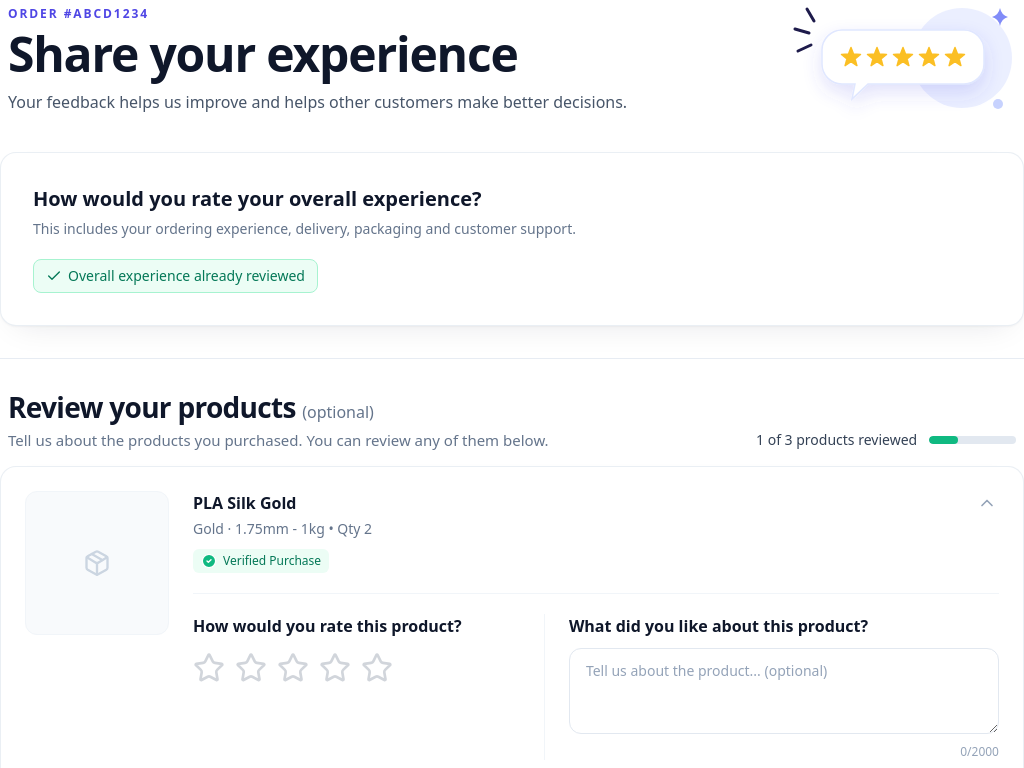
Scenario: ReviewForm › hides the overall rating once the order is reviewed and sends products only
Expected: the text "Overall experience already reviewed" is shown, [33,259,318,293]
Click the button named "3 stars".
click(293, 668)  # box [275,650,311,686]
(page scrolled)
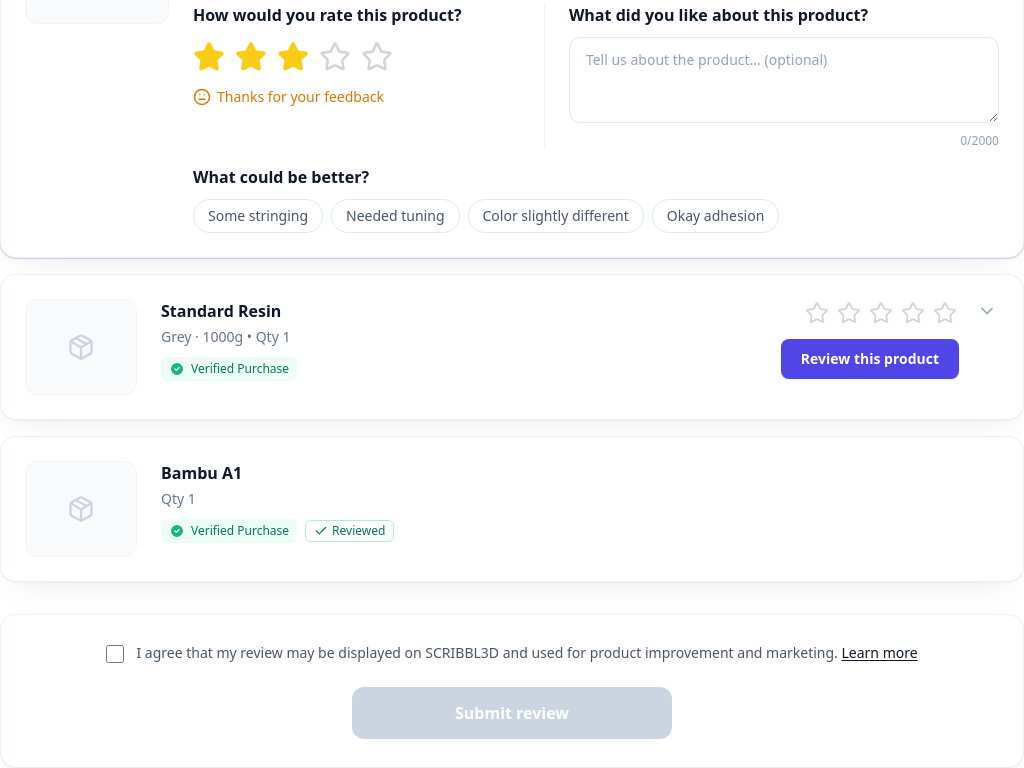
Click the checkbox.
click(115, 654)  # box [106,645,124,663]
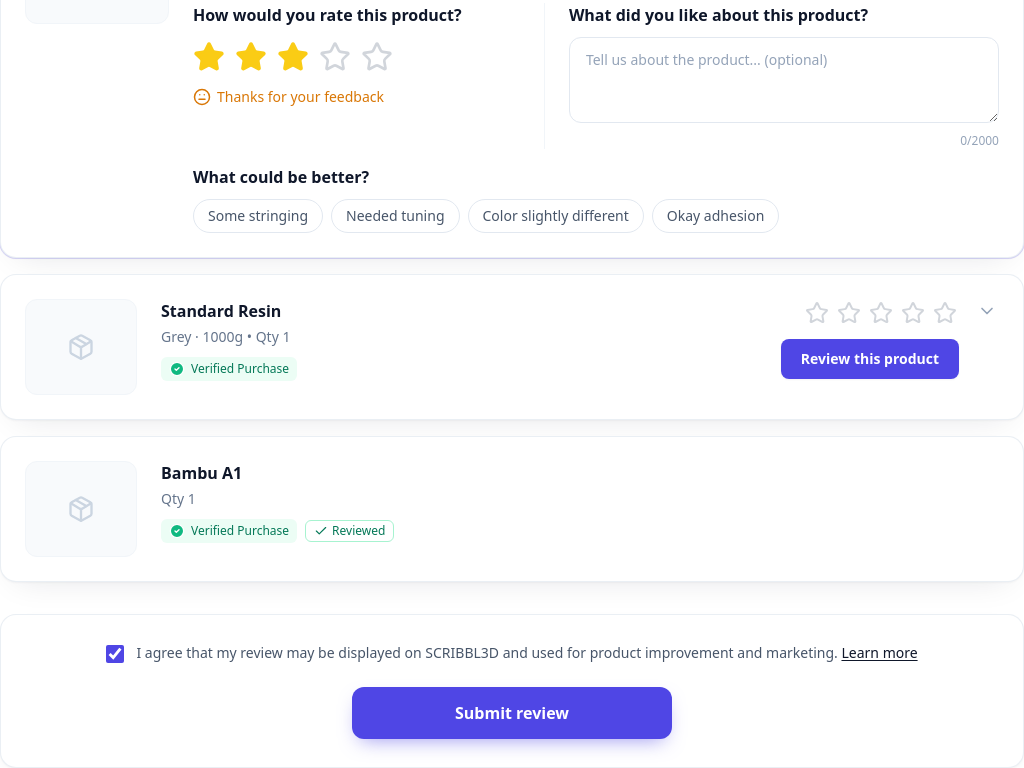
Click the button "Submit review".
click(512, 713)  # box [352,687,672,739]
(page scrolled)
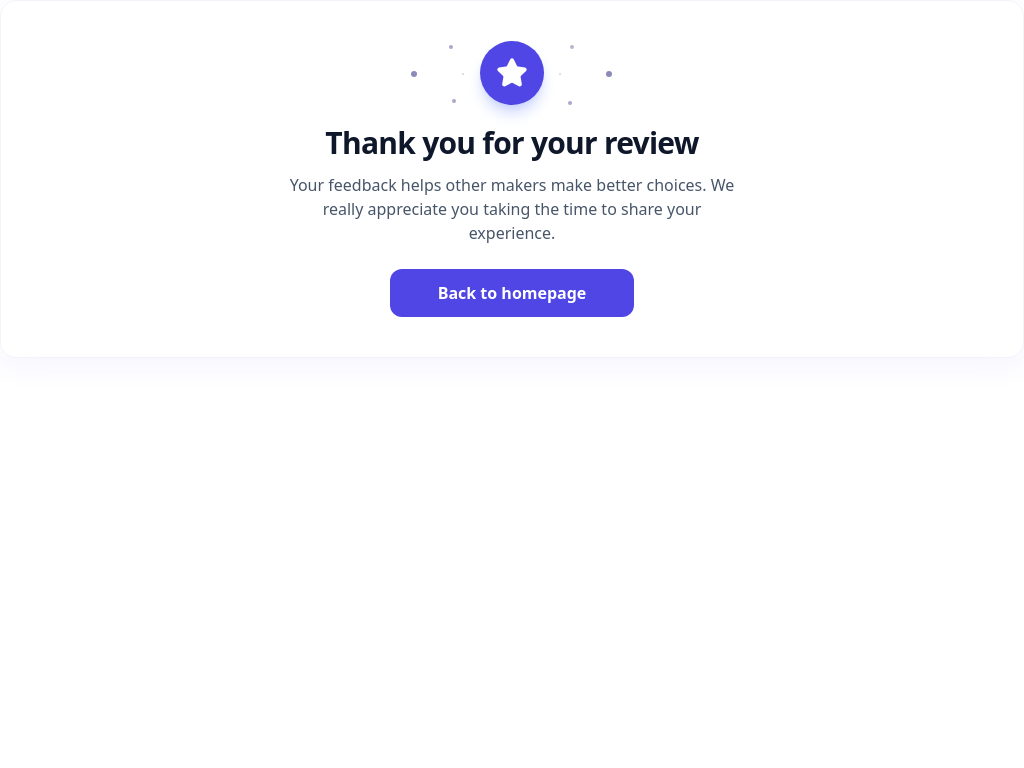
Result: the heading "Thank you for your review" is shown at [325,122,699,163]
